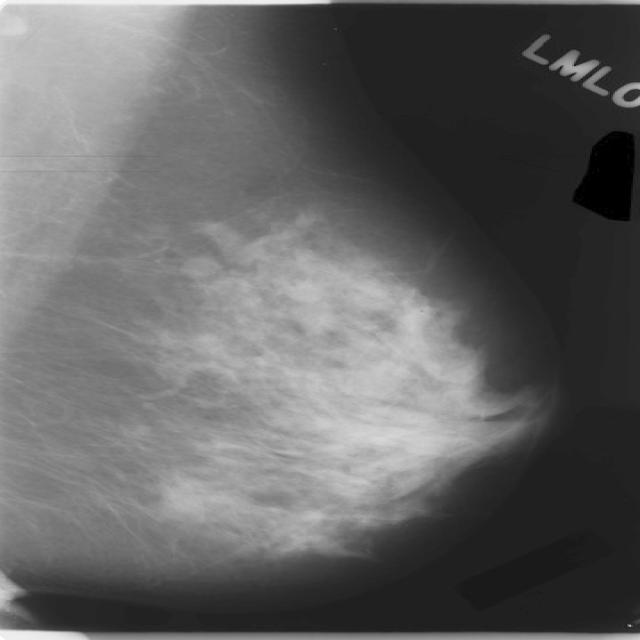tumour: (173, 254, 221, 278)
